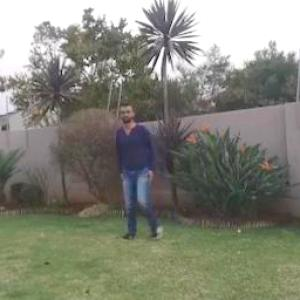follow: (117, 102, 155, 233)
